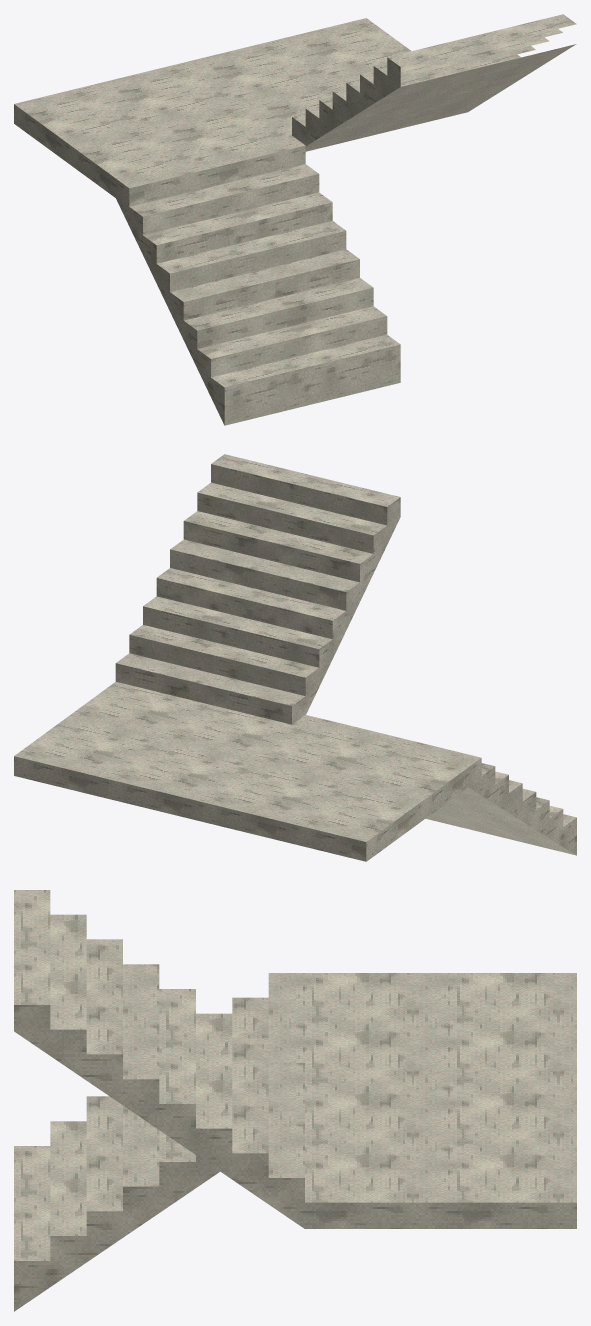
Rendered from stair_u.gltf.
3 renders of one model, top to bottom at view 1: azimuth 30°, elevation 25°; view 2: azimuth 150°, elevation 25°; view 3: azimuth 270°, elevation 25°, orthographic. The views are drawn at different scales.
Parts seen in each view (by area): view 1: stair_u; view 2: stair_u; view 3: stair_u.
Part boxes in pixels (<box>): stair_u: <box>14,14,576,425</box>; stair_u: <box>14,454,576,861</box>; stair_u: <box>14,890,576,1311</box>.
Size of what is drawn, in the model's own units: 3.74 by 3.2 by 3.87.
Materials: 2 (2 with a texture image).
